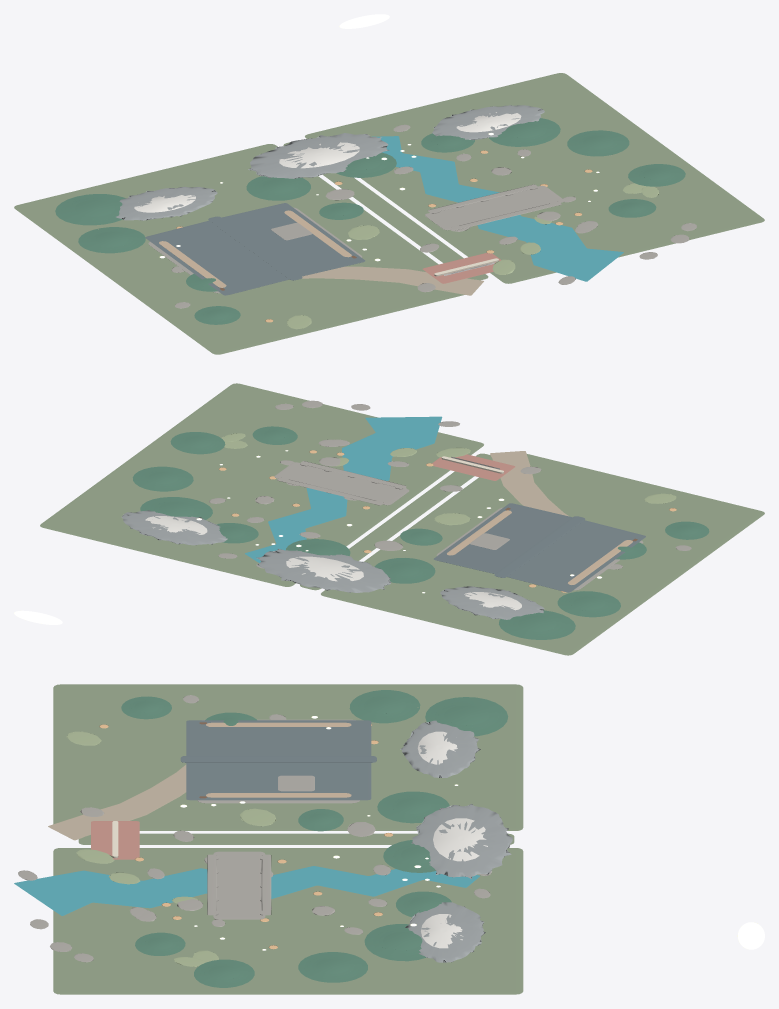
The model's file is pagescape-world.glb.
The picture shows the model from 3 angles, top to bottom: view 1: azimuth 30°, elevation 25°; view 2: azimuth 150°, elevation 25°; view 3: azimuth 270°, elevation 25°; orthographic projection. The views are drawn at different scales.
Visible parts, largest first — view 1: Terrain_Right, Terrain_Left, Winding_Stream, Cottage_Roof_Left, Cottage_Roof_Right, Mountain_Back_Centre, Gutter_Moss, Stone_Bridge_Deck, Cottage_Path, Mountain_Back_Left, Mountain_Back_Right, Mountain_Back_Centre_Snowcap (+5 smaller); view 2: Terrain_Right, Terrain_Left, Winding_Stream, Cottage_Roof_Left, Cottage_Roof_Right, Mountain_Back_Centre, Gutter_Moss, Stone_Bridge_Deck, Mountain_Back_Right, Cottage_Path, Mountain_Back_Left, Mountain_Back_Centre_Snowcap (+6 smaller); view 3: Terrain_Right, Terrain_Left, Winding_Stream, Cottage_Roof_Left, Cottage_Roof_Right, Mountain_Back_Centre, Gutter_Moss, Stone_Bridge_Deck, Cottage_Path, Mountain_Back_Right, Mountain_Back_Left, Character_Paper_Base (+14 smaller).
Part boxes in pixels (box(x1,y1,x2,y2)): Terrain_Right: box(305, 73, 764, 283); Terrain_Left: box(14, 144, 464, 354); Winding_Stream: box(372, 136, 623, 281); Cottage_Roof_Left: box(145, 220, 288, 295); Cottage_Roof_Right: box(222, 203, 365, 276); Mountain_Back_Centre: box(248, 133, 389, 178); Gutter_Moss: box(283, 142, 488, 280); Stone_Bridge_Deck: box(425, 185, 564, 230); Cottage_Path: box(302, 266, 483, 295); Mountain_Back_Left: box(116, 186, 217, 220); Mountain_Back_Right: box(432, 105, 544, 140); Mountain_Back_Centre_Snowcap: box(279, 142, 359, 168); Terrain_Right: box(40, 383, 483, 586); Terrain_Left: box(321, 454, 764, 655); Winding_Stream: box(245, 416, 442, 562); Cottage_Roof_Left: box(507, 520, 645, 592); Cottage_Roof_Right: box(433, 503, 571, 573); Mountain_Back_Centre: box(256, 548, 390, 592); Gutter_Moss: box(300, 453, 492, 590); Stone_Bridge_Deck: box(274, 462, 409, 505); Mountain_Back_Right: box(121, 510, 227, 545); Cottage_Path: box(490, 451, 568, 516); Mountain_Back_Left: box(440, 586, 544, 619); Mountain_Back_Centre_Snowcap: box(286, 556, 363, 581); Terrain_Right: box(53, 848, 523, 994); Terrain_Left: box(53, 684, 523, 830); Winding_Stream: box(14, 866, 479, 915); Cottage_Roof_Left: box(186, 720, 371, 755); Cottage_Roof_Right: box(186, 763, 371, 800); Mountain_Back_Centre: box(411, 803, 512, 878); Gutter_Moss: box(78, 833, 514, 844); Stone_Bridge_Deck: box(213, 851, 265, 919); Cottage_Path: box(48, 764, 186, 840); Mountain_Back_Right: box(405, 902, 485, 962); Mountain_Back_Left: box(400, 720, 480, 777); Character_Paper_Base: box(91, 821, 139, 859).
Size of the model in its own units: 5.39 by 0.0322 by 5.51.
22 materials, 1 textured.
